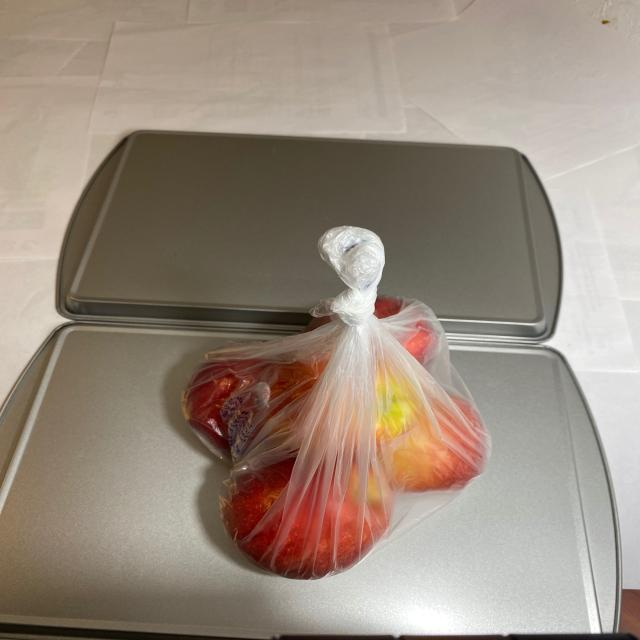apple: (177, 293, 496, 585)
